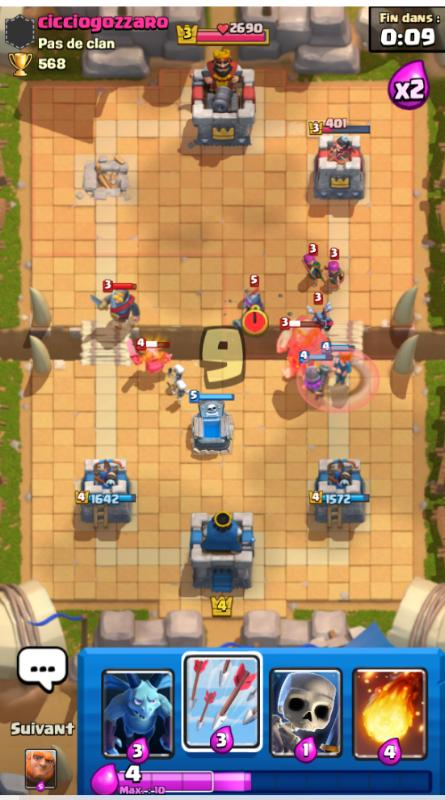archere: (285, 237, 321, 284), (320, 247, 355, 283)
chevalier: (95, 290, 144, 331)
gargouille: (305, 309, 338, 340)
geant: (279, 330, 341, 369)
mini_PEKKA: (127, 345, 171, 380)
mousquetaire: (292, 365, 333, 400), (239, 287, 273, 323)
squelette: (165, 377, 194, 401), (167, 352, 187, 377)
valkyrie: (324, 344, 366, 375)
